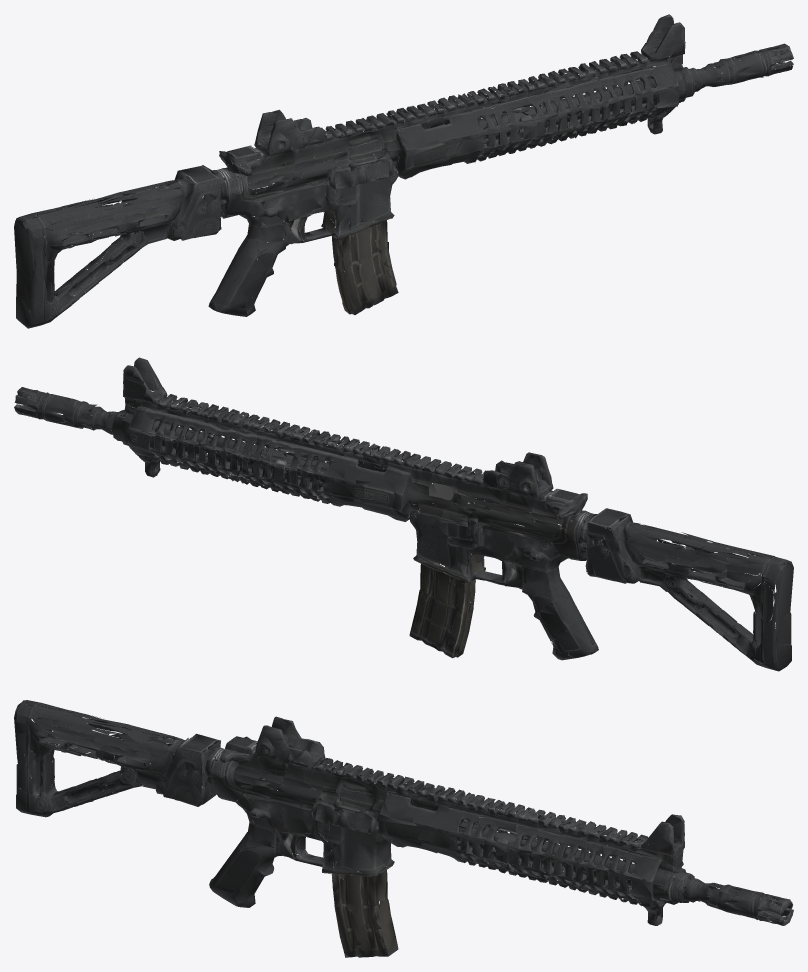
The model's file is rifle.glb.
3 renders of one model, top to bottom at view 1: azimuth 30°, elevation 25°; view 2: azimuth 150°, elevation 25°; view 3: azimuth 330°, elevation 25°, orthographic.
Visible parts, largest first — view 1: WeaponBody, Magazine; view 2: WeaponBody, Magazine; view 3: WeaponBody, Magazine.
Boxes of the visible parts, x1=… form: WeaponBody: x1=14, y1=14, x2=793, y2=328; Magazine: x1=335, y1=220, x2=398, y2=314; WeaponBody: x1=14, y1=357, x2=793, y2=671; Magazine: x1=409, y1=560, x2=470, y2=658; WeaponBody: x1=14, y1=700, x2=793, y2=932; Magazine: x1=335, y1=867, x2=398, y2=957.
Bounding box in the file's own units: 0.88 × 0.2351 × 0.0581.
Materials: 1 (1 with a texture image).
